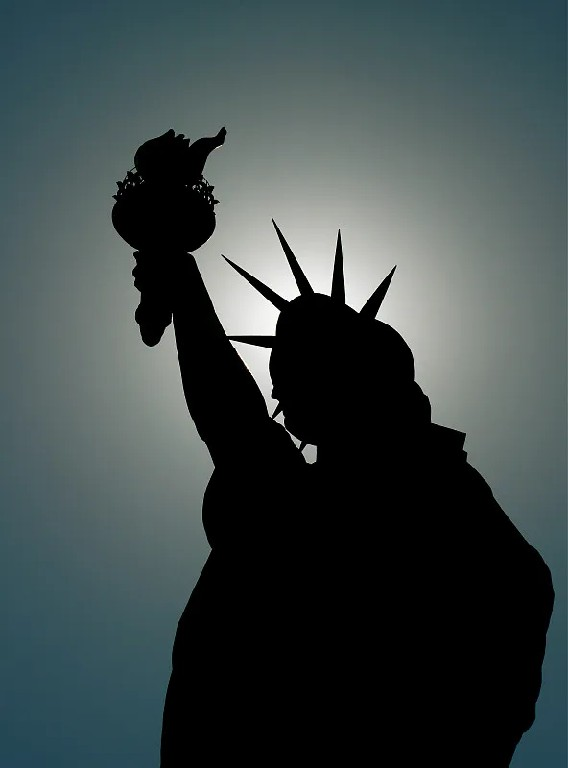SL: (111, 126, 557, 768)
